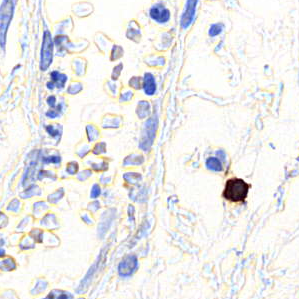Lymphocyte: (221, 175, 251, 202)
